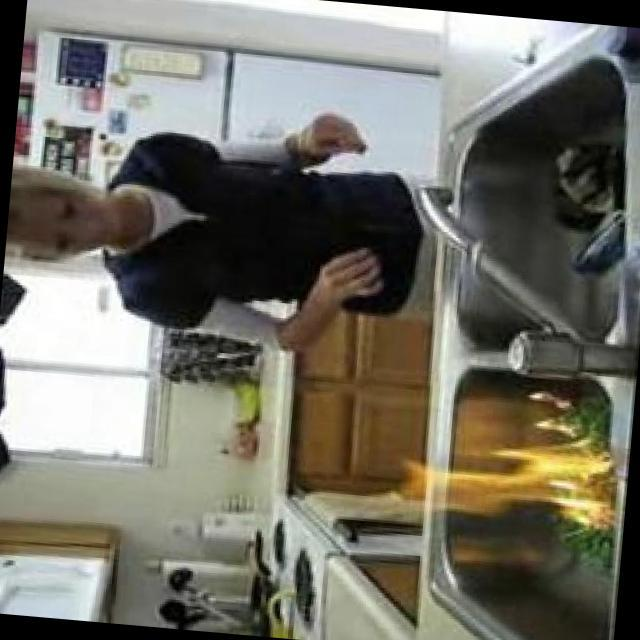Fire: (399, 427, 620, 524), (521, 389, 579, 439)
